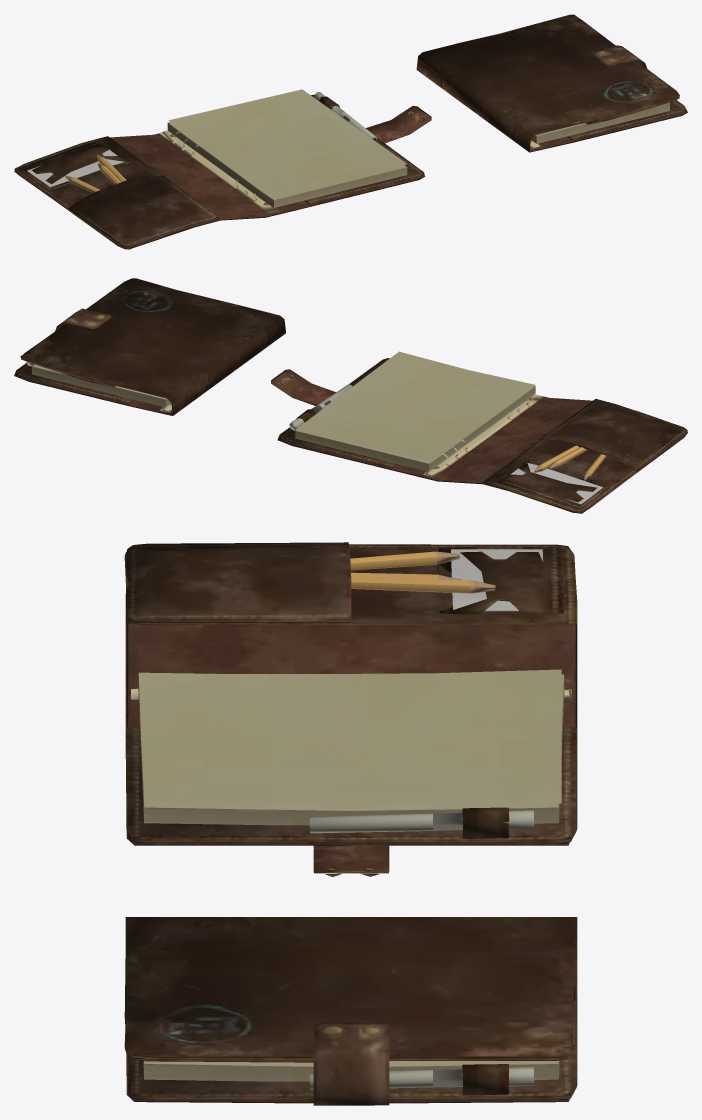
Rendered from ledger-binders.glb.
3 views of the same model, one above another, from view 1: azimuth 30°, elevation 25°; view 2: azimuth 150°, elevation 25°; view 3: azimuth 270°, elevation 25° (orthographic). The views are drawn at different scales.
Parts seen in each view (by area): view 1: binder_notebook; view 2: binder_notebook; view 3: binder_notebook.
Part boxes in pixels (bbox=[...]): binder_notebook: bbox=[14, 14, 687, 249]; binder_notebook: bbox=[14, 278, 687, 513]; binder_notebook: bbox=[124, 542, 577, 1105].
Size of the model in its own units: 0.5829 by 0.0248 by 0.1994.
Materials: 1 (1 with a texture image).
